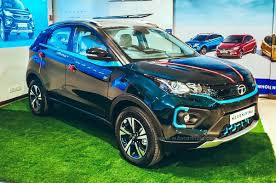Tata Nexon: (23, 17, 261, 169)
